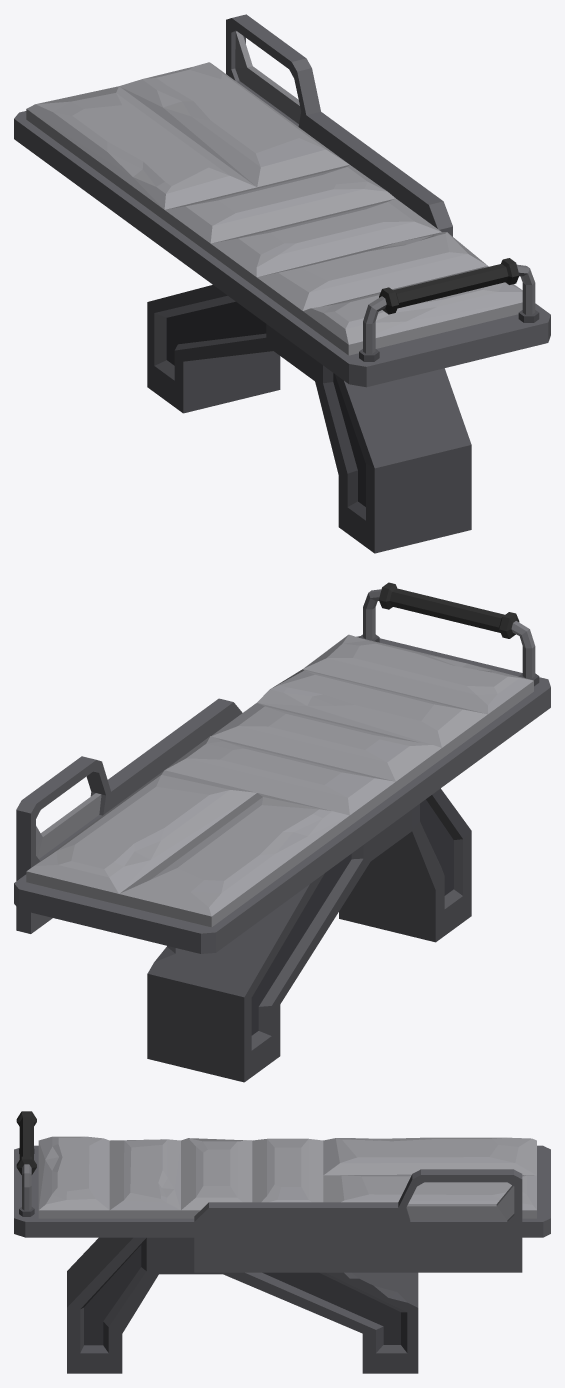
Rendered from SM_Prop_Bed_Medical_Slide_01.fbx.
The picture shows the model from 3 angles, top to bottom: view 1: azimuth 30°, elevation 25°; view 2: azimuth 150°, elevation 25°; view 3: azimuth 270°, elevation 25°; orthographic projection. The views are drawn at different scales.
Visible parts, largest first — view 1: SM_Prop_Bed_Medical_Slide_01_LOD0; view 2: SM_Prop_Bed_Medical_Slide_01_LOD0; view 3: SM_Prop_Bed_Medical_Slide_01_LOD0.
Part boxes in pixels (<box>): SM_Prop_Bed_Medical_Slide_01_LOD0: <box>14,14,550,553</box>; SM_Prop_Bed_Medical_Slide_01_LOD0: <box>14,582,550,1082</box>; SM_Prop_Bed_Medical_Slide_01_LOD0: <box>14,1111,550,1373</box>.
Bounding box in the file's own units: 234 × 83.03 × 107.
1 material, 1 textured.
